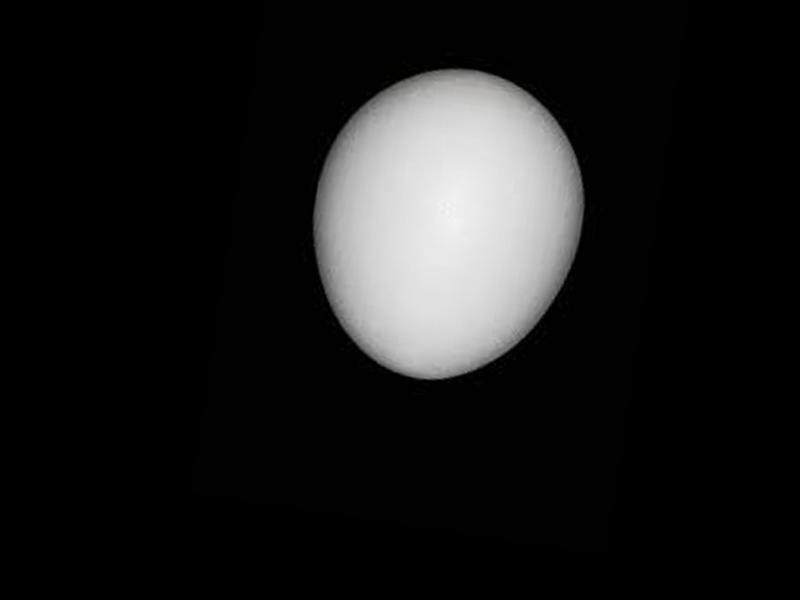Eggs: (291, 51, 601, 396)
